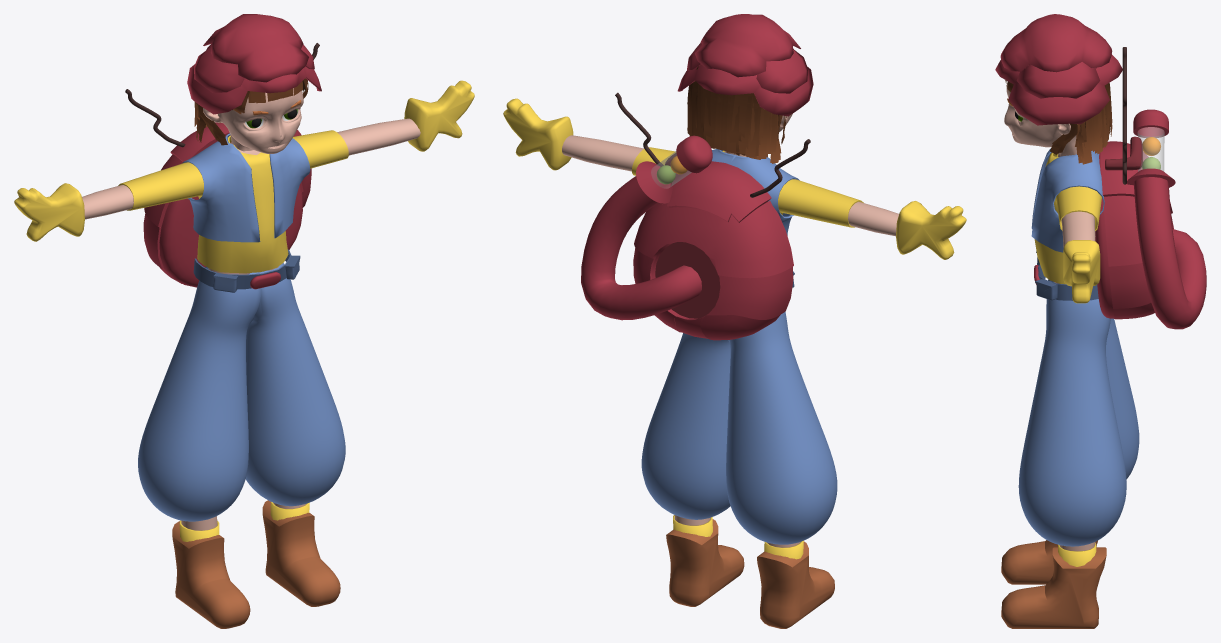
Rendered from Персонаж — копия.fbx.
3 renders of one model, left to right at view 1: azimuth 30°, elevation 25°; view 2: azimuth 150°, elevation 25°; view 3: azimuth 270°, elevation 25°, orthographic.
Parts seen in each view (by area): view 1: Cube.009, Cube.008, Cube.003, Cube.004, Cube, Sphere, Plane, Plane.001, Cube.001, Head, Plane.004, Plane.003 (+5 smaller); view 2: Cube, Cube.009, Cube.008, BézierCurve.001, hair, Sphere, Plane, Plane.001, Cube.001, Cube.003, Plane.004, Sphere.002 (+6 smaller); view 3: Cube.008, BézierCurve.001, Cube, Plane, Sphere, Cube.004, Sphere.002, Cube.009, Cube.003, Sphere.001, Cylinder, Plane.001 (+9 smaller).
Boxes of the visible parts, x1,y1,x2,y2 form: Cube.009: (138,266,261,521); Cube.008: (245,263,345,506); Cube.003: (118,130,348,273); Cube.004: (182,133,310,242); Cube: (143,122,303,287); Sphere: (203,14,308,82); Plane: (262,500,340,606); Plane.001: (172,521,250,628); Cube.001: (82,118,420,530); Head: (203,88,303,153); Plane.004: (14,183,84,241); Plane.003: (404,80,474,151); Cube: (633,161,793,340); Cube.009: (726,311,837,544); Cube.008: (641,333,730,519); BézierCurve.001: (581,167,701,320); hair: (687,66,786,163); Sphere: (694,14,800,77); Plane: (666,519,744,606); Plane.001: (757,541,834,628); Cube.001: (562,135,898,547); Cube.003: (632,147,863,227); Plane.004: (896,201,966,259); Sphere.002: (677,64,813,116); Cube.008: (1018,281,1126,546); BézierCurve.001: (1133,177,1206,329); Cube: (1095,141,1173,319); Plane: (1001,547,1106,628); Sphere: (1000,14,1112,72); Cube.004: (1031,148,1104,252); Sphere.002: (995,54,1122,125); Cube.009: (1048,279,1139,479); Cube.003: (1034,152,1101,284); Sphere.001: (1016,62,1100,98); Cylinder: (1127,109,1175,187); Plane.001: (1001,540,1097,584).
Bounding box in the file's own units: 662 × 806 × 266.
